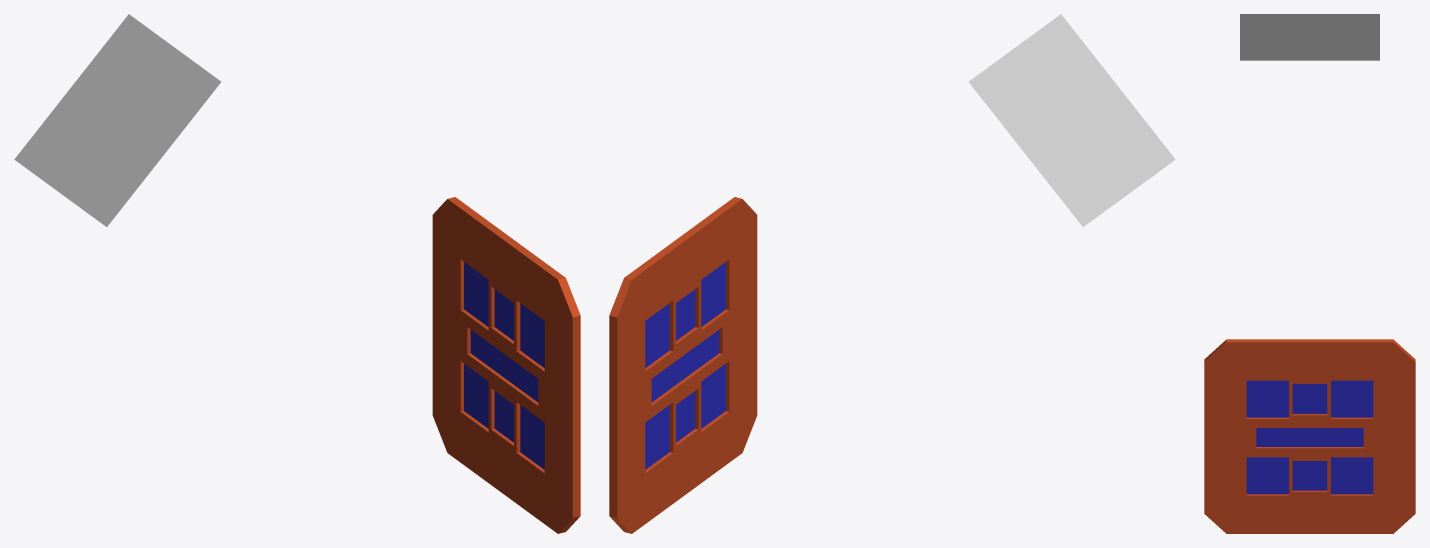
The model's file is something.obj.
The picture shows the model from 3 angles, left to right: view 1: azimuth 30°, elevation 25°; view 2: azimuth 150°, elevation 25°; view 3: azimuth 270°, elevation 25°; orthographic projection. The views are drawn at different scales.
Parts seen in each view (by area): view 1: Cube, Plane.001; view 2: Cube, Plane.001; view 3: Cube, Plane.001.
Boxes of the visible parts, bbox=[...] form: Cube: bbox=[432, 197, 580, 533]; Plane.001: bbox=[14, 14, 221, 226]; Cube: bbox=[609, 197, 757, 533]; Plane.001: bbox=[968, 14, 1175, 226]; Cube: bbox=[1204, 339, 1415, 533]; Plane.001: bbox=[1240, 14, 1379, 60].
Size of what is drawn, in the model's own units: 3.71 by 4.13 by 2.
